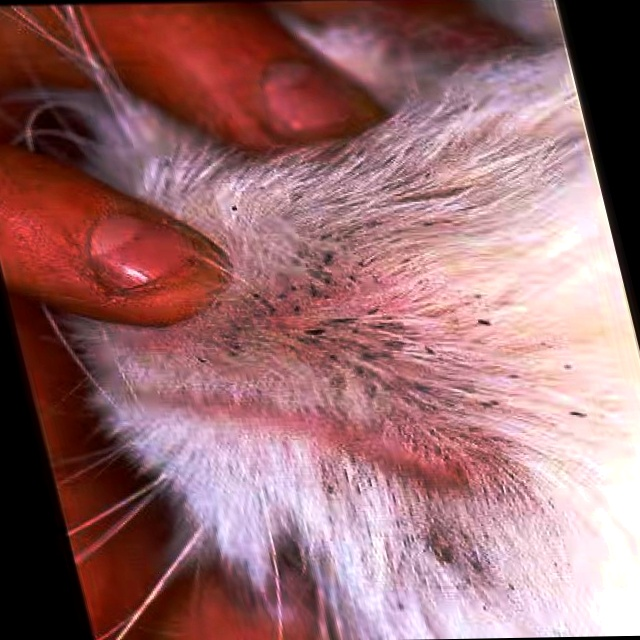acne: (159, 285, 596, 431)
